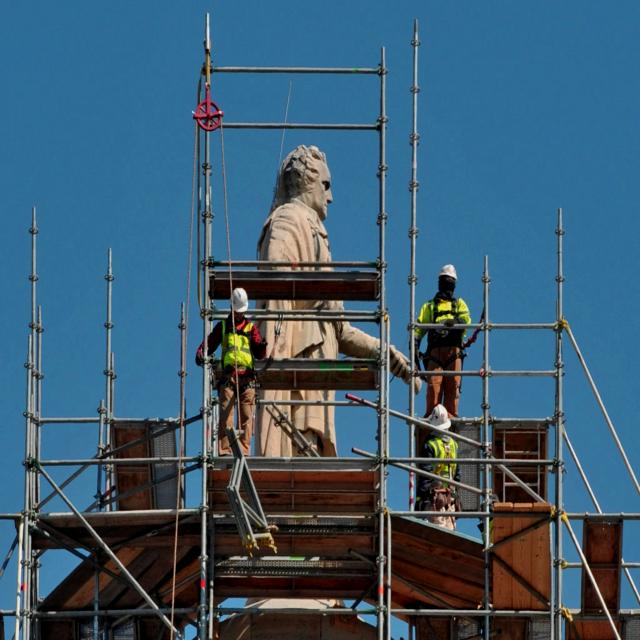head_helmet: (426, 404, 452, 430), (230, 285, 250, 313), (440, 264, 460, 278)
person: (194, 287, 261, 452), (421, 261, 471, 401), (415, 407, 464, 521)
vest: (409, 298, 468, 337), (216, 320, 260, 367), (423, 436, 461, 481)
